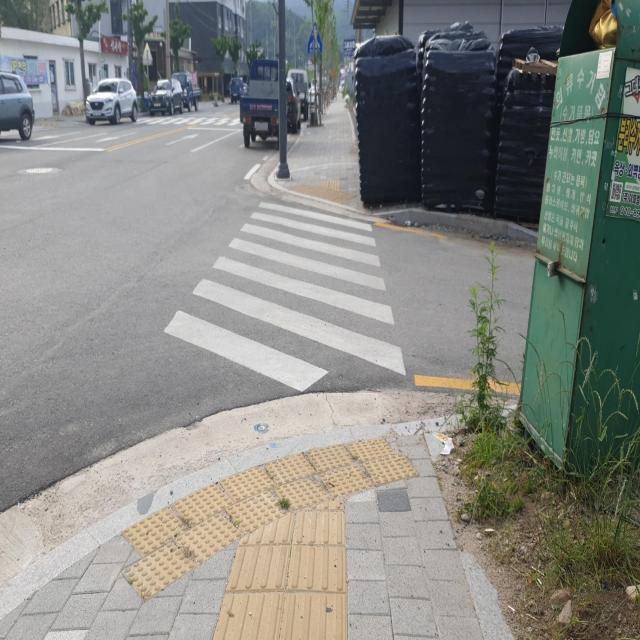횡단보도: (161, 198, 407, 397)
